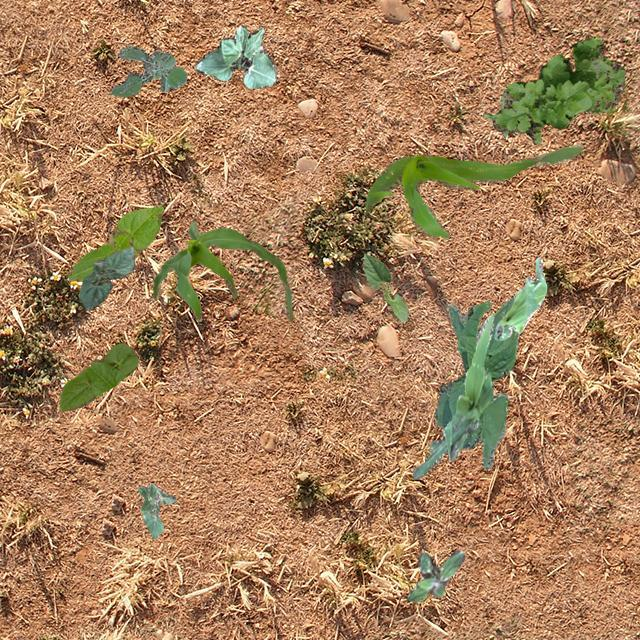crop: (364, 142, 582, 238), (433, 296, 518, 469), (152, 220, 292, 322), (412, 314, 492, 478), (66, 205, 162, 281), (59, 342, 138, 409), (194, 24, 276, 86), (492, 256, 546, 340), (78, 246, 134, 310), (362, 252, 408, 322), (138, 482, 176, 538)
weed: (492, 38, 624, 144), (110, 44, 184, 96), (406, 550, 464, 600), (482, 94, 507, 136)
